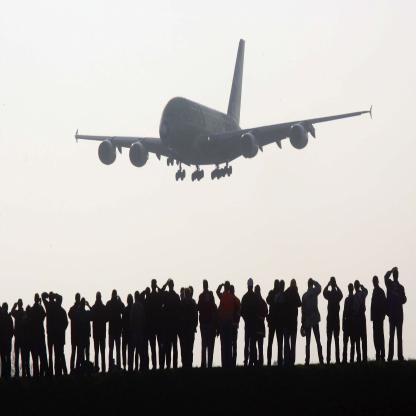CIV_Plane: (74, 28, 375, 182)
